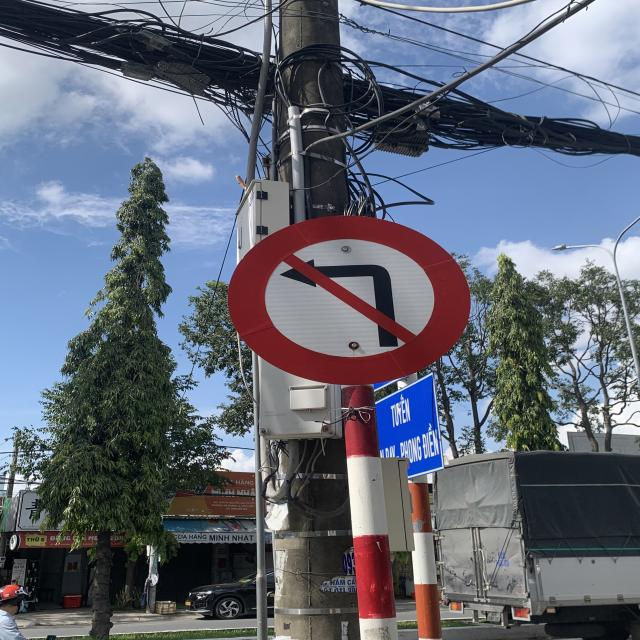Cam_Re_Trai: (224, 212, 470, 386)
